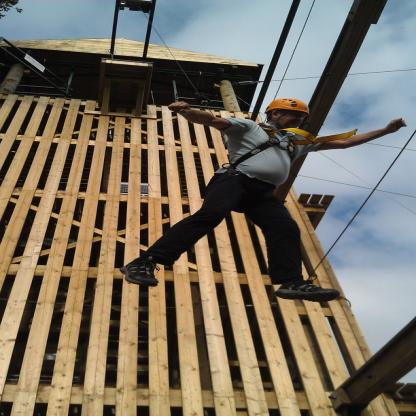Helmet: (264, 98, 310, 127)
